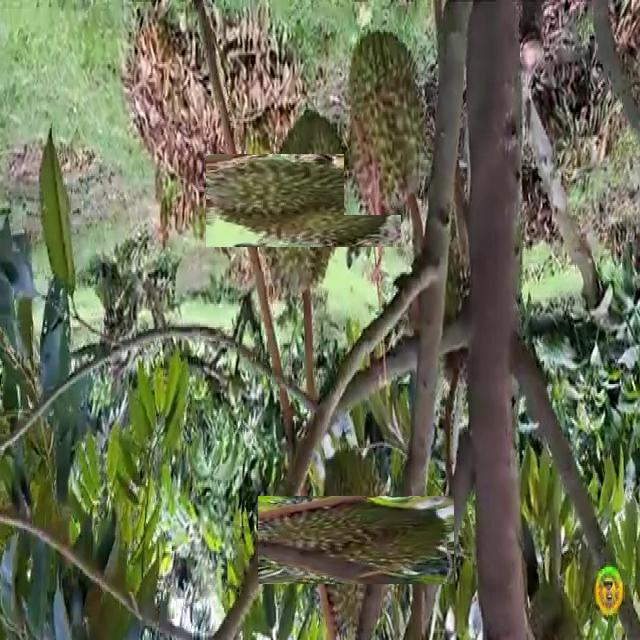durian: (231, 128, 376, 272), (284, 468, 428, 611), (344, 26, 439, 215)
